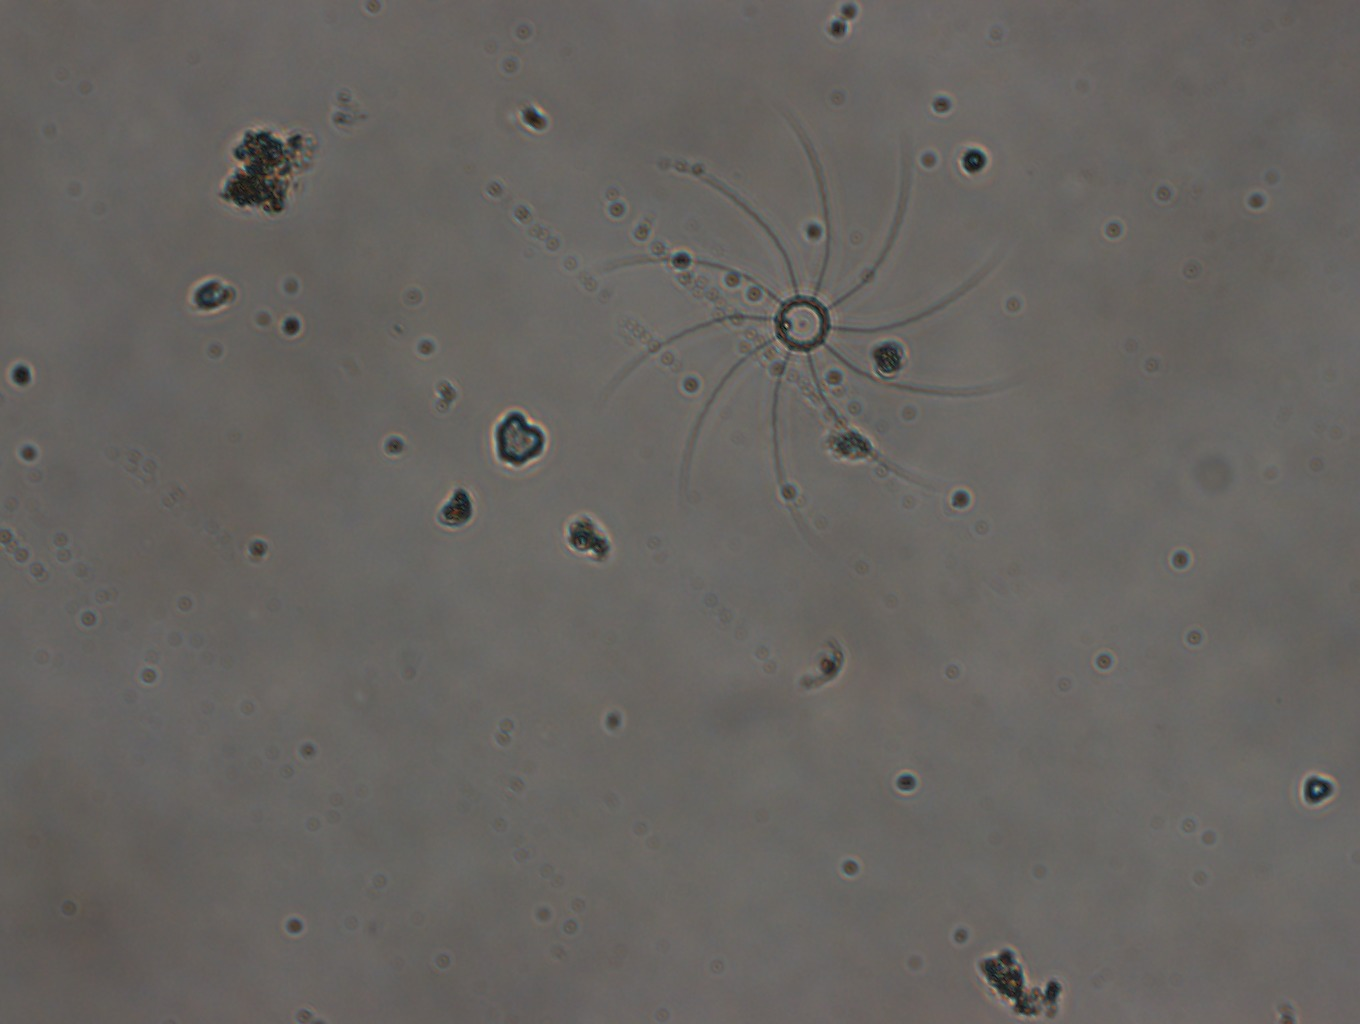bacteriastrum: (614, 136, 989, 494)
